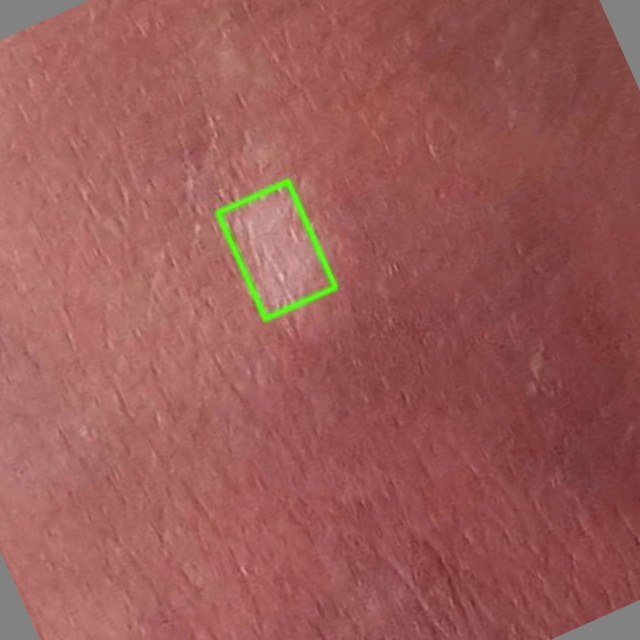Eczema: (217, 181, 335, 318)
